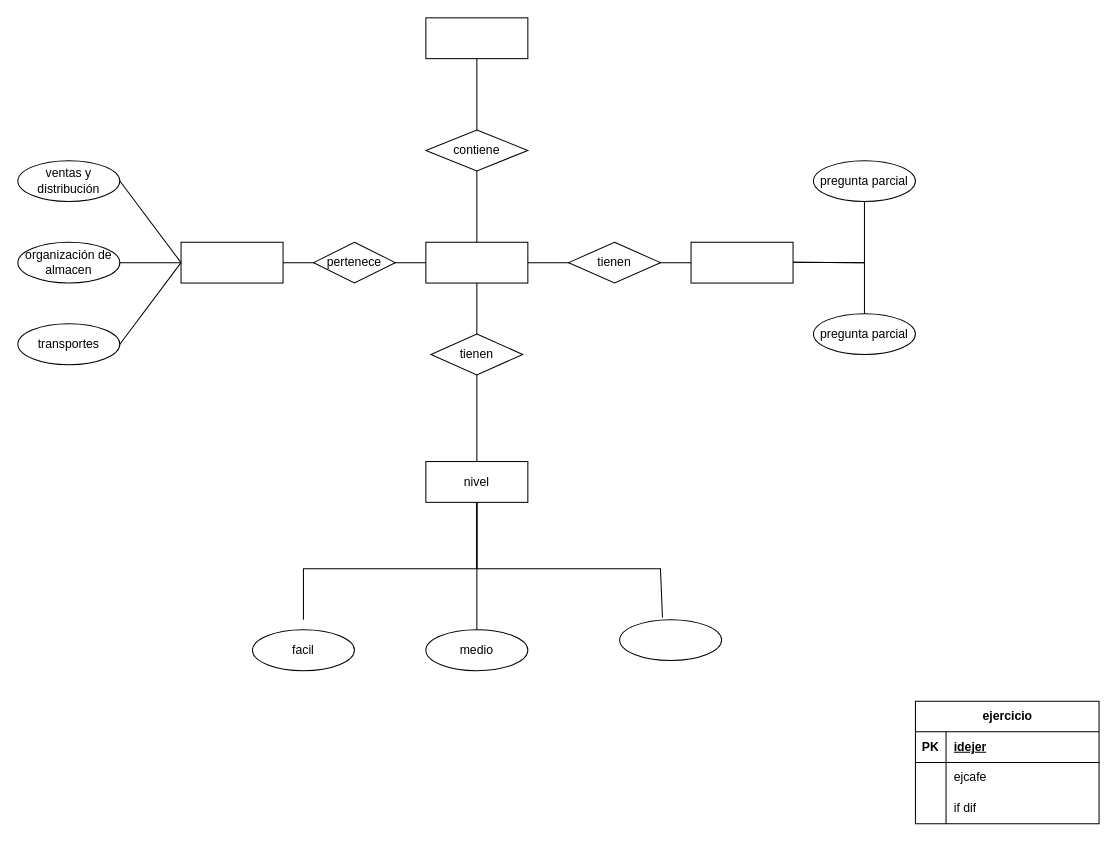
This 1117x842 diagram has some shape labels left out. Here are the shapes that lost their labels. From the top down, the centre of each, then its label:
[476,38]: Webtrainer
[231,262]: categoria
[476,262]: ejericcios
[741,262]: contenido
[670,639]: dificil
